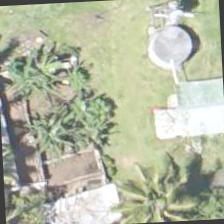Kelapa_Sawit: (108, 158, 202, 224)
